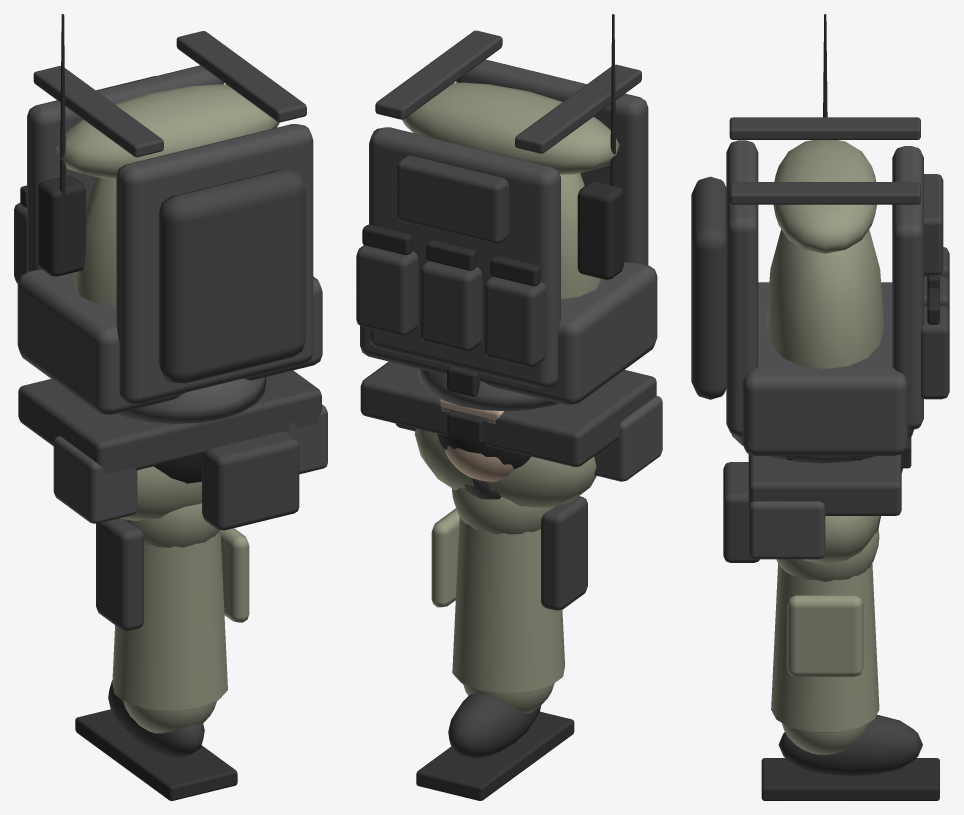
File: soldier_militia.glb
3 renders of one model, left to right at view 1: azimuth 30°, elevation 25°; view 2: azimuth 150°, elevation 25°; view 3: azimuth 270°, elevation 25°, orthographic. The views are drawn at different scales.
Visible parts, largest first — view 1: Hydration, PlateBack, Leg, Belt, Cummerbund, Shoulders, DumpPouch, PlateFront, Sole, LegHolster, HipPouch, Radio (+13 smaller); view 2: PlateFront, Leg, Belt, Cummerbund, Shoulders, PlateBack, AdminPouch, Sole, PelvisBody, MagPouch, MagPouch.001, MagPouch.002 (+19 smaller); view 3: Cummerbund, Chest, Leg, PlateBack, Hydration, Belt, Shoulders, PlateFront, CargoPocket, Sole, Boot, HipPouch.001 (+10 smaller).
Part boxes in pixels (box(x1,y1,x2,y2)): Hydration: box(158, 170, 305, 383); PlateBack: box(116, 124, 313, 404); Leg: box(112, 530, 227, 711); Belt: box(18, 370, 321, 474); Cummerbund: box(17, 269, 322, 414); Shoulders: box(56, 84, 279, 178); DumpPouch: box(202, 431, 299, 530); PlateFront: box(27, 65, 223, 271); Sole: box(75, 709, 237, 800); LegHolster: box(96, 518, 143, 630); HipPouch: box(53, 436, 137, 523); Radio: box(38, 175, 85, 276); PlateFront: box(369, 127, 560, 388); Leg: box(452, 516, 564, 693); Belt: box(360, 361, 656, 466); Cummerbund: box(360, 262, 657, 404); Shoulders: box(402, 82, 619, 174); PlateBack: box(456, 59, 648, 265); AdminPouch: box(397, 155, 508, 243); Sole: box(416, 711, 574, 800); PelvisBody: box(414, 428, 596, 508); MagPouch: box(484, 276, 546, 367); MagPouch.001: box(420, 261, 482, 351); MagPouch.002: box(356, 245, 418, 335); Cummerbund: box(742, 282, 908, 455); Chest: box(766, 229, 883, 368); Leg: box(771, 563, 879, 732); PlateBack: box(726, 140, 758, 436); Hydration: box(691, 176, 726, 399); Belt: box(748, 454, 901, 515); Shoulders: box(773, 140, 876, 253); PlateFront: box(892, 146, 923, 430); CargoPocket: box(787, 595, 863, 676); Sole: box(761, 758, 939, 800); Boot: box(778, 714, 922, 776); HipPouch.001: box(748, 501, 825, 559).
Size of the model in its own units: 0.4 by 1.25 by 0.405.
